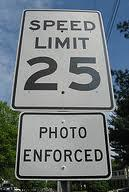Speed Limit 25mph: (23, 12, 103, 100)
